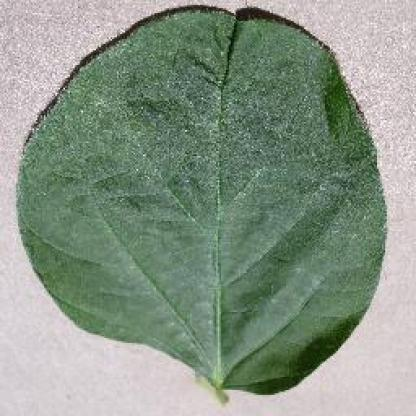soy: (4, 3, 416, 416)
